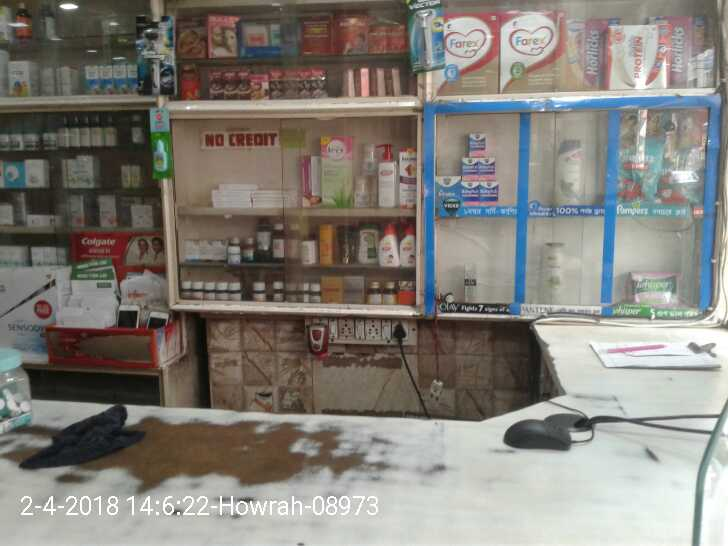vicks: (436, 124, 501, 206)
